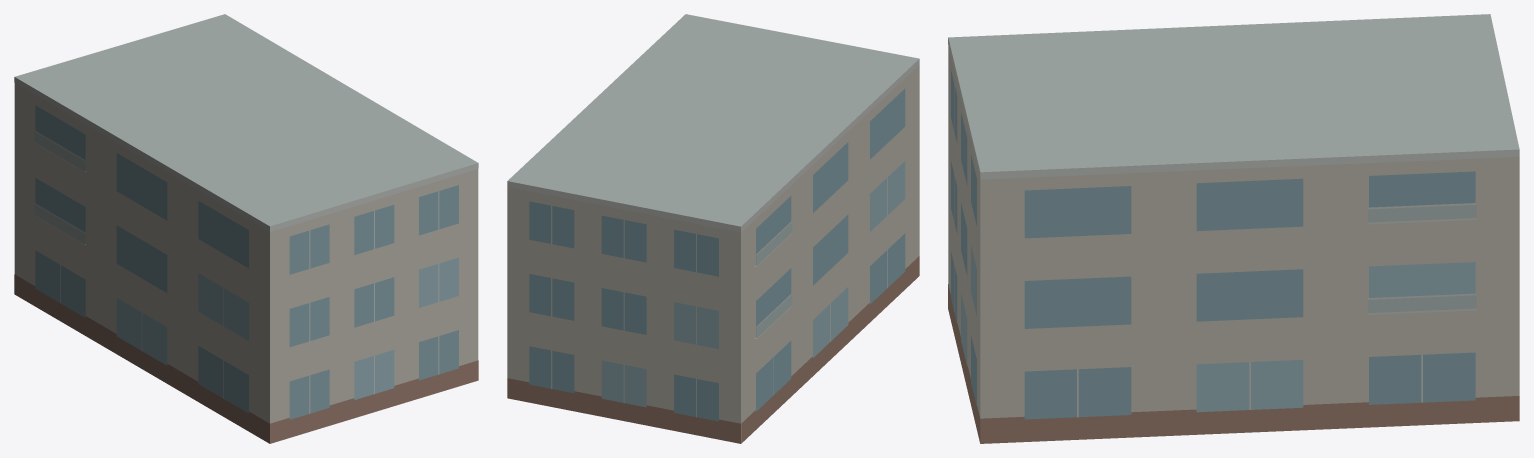
Rendered from survey-upis-32757470.glb.
3 renders of one model, left to right at view 1: azimuth 30°, elevation 25°; view 2: azimuth 150°, elevation 25°; view 3: azimuth 270°, elevation 25°, orthographic. The views are drawn at different scales.
Parts seen in each view (by area): view 1: survey-upis-32757470.tmp; view 2: survey-upis-32757470.tmp; view 3: survey-upis-32757470.tmp.
Boxes of the visible parts, x1,y1,x2,y2 form: survey-upis-32757470.tmp: [14, 14, 478, 443]; survey-upis-32757470.tmp: [507, 14, 919, 443]; survey-upis-32757470.tmp: [948, 14, 1519, 443].
Bounding box in the file's own units: 11.45 × 9.15 × 17.46.
